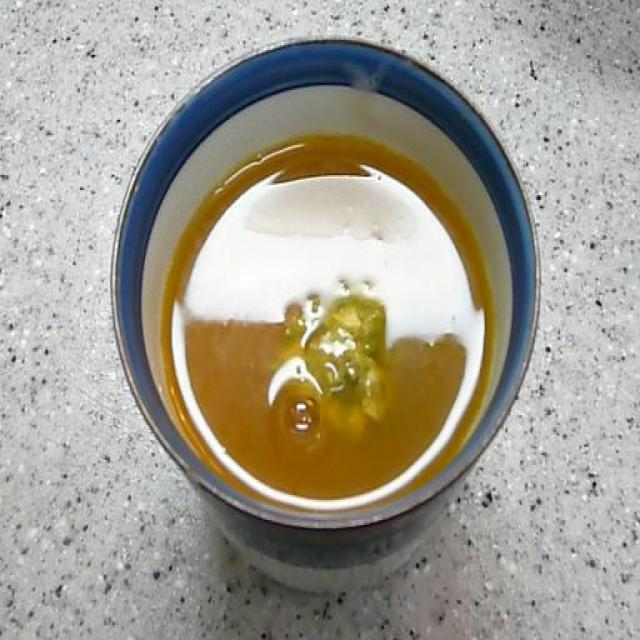鸡蛋料理: (125, 22, 513, 618)
